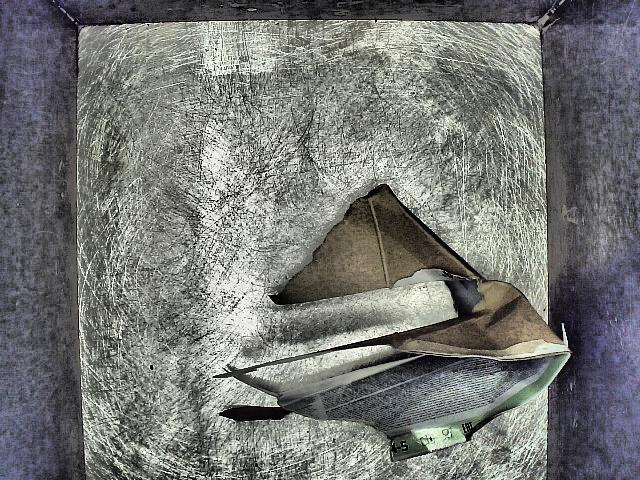Paper: (186, 174, 639, 477)
